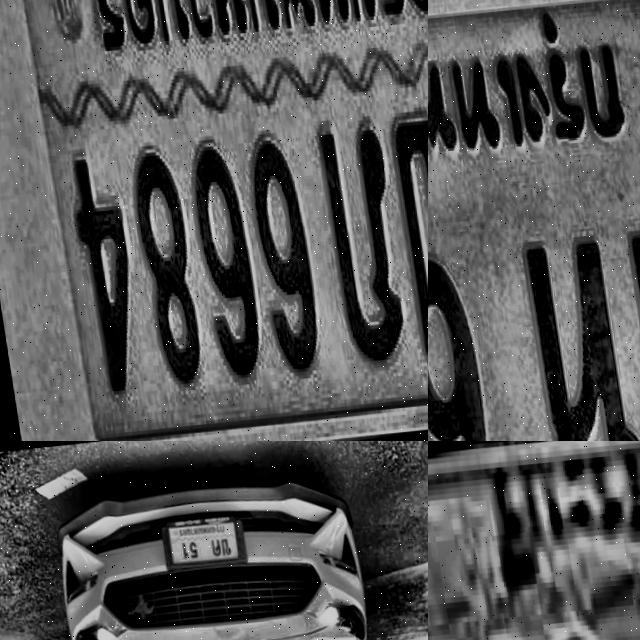license-plate: (0, 0, 428, 441), (428, 0, 640, 441), (428, 441, 640, 640), (158, 507, 244, 573)
